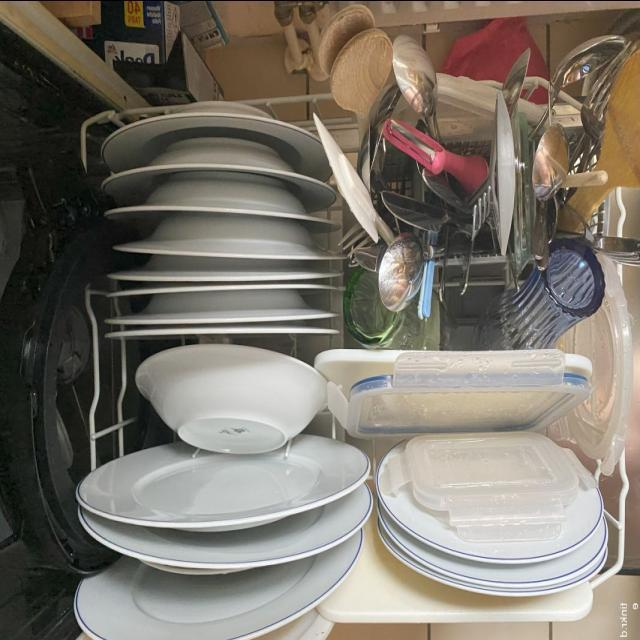clutery_bin: (338, 35, 605, 279)
